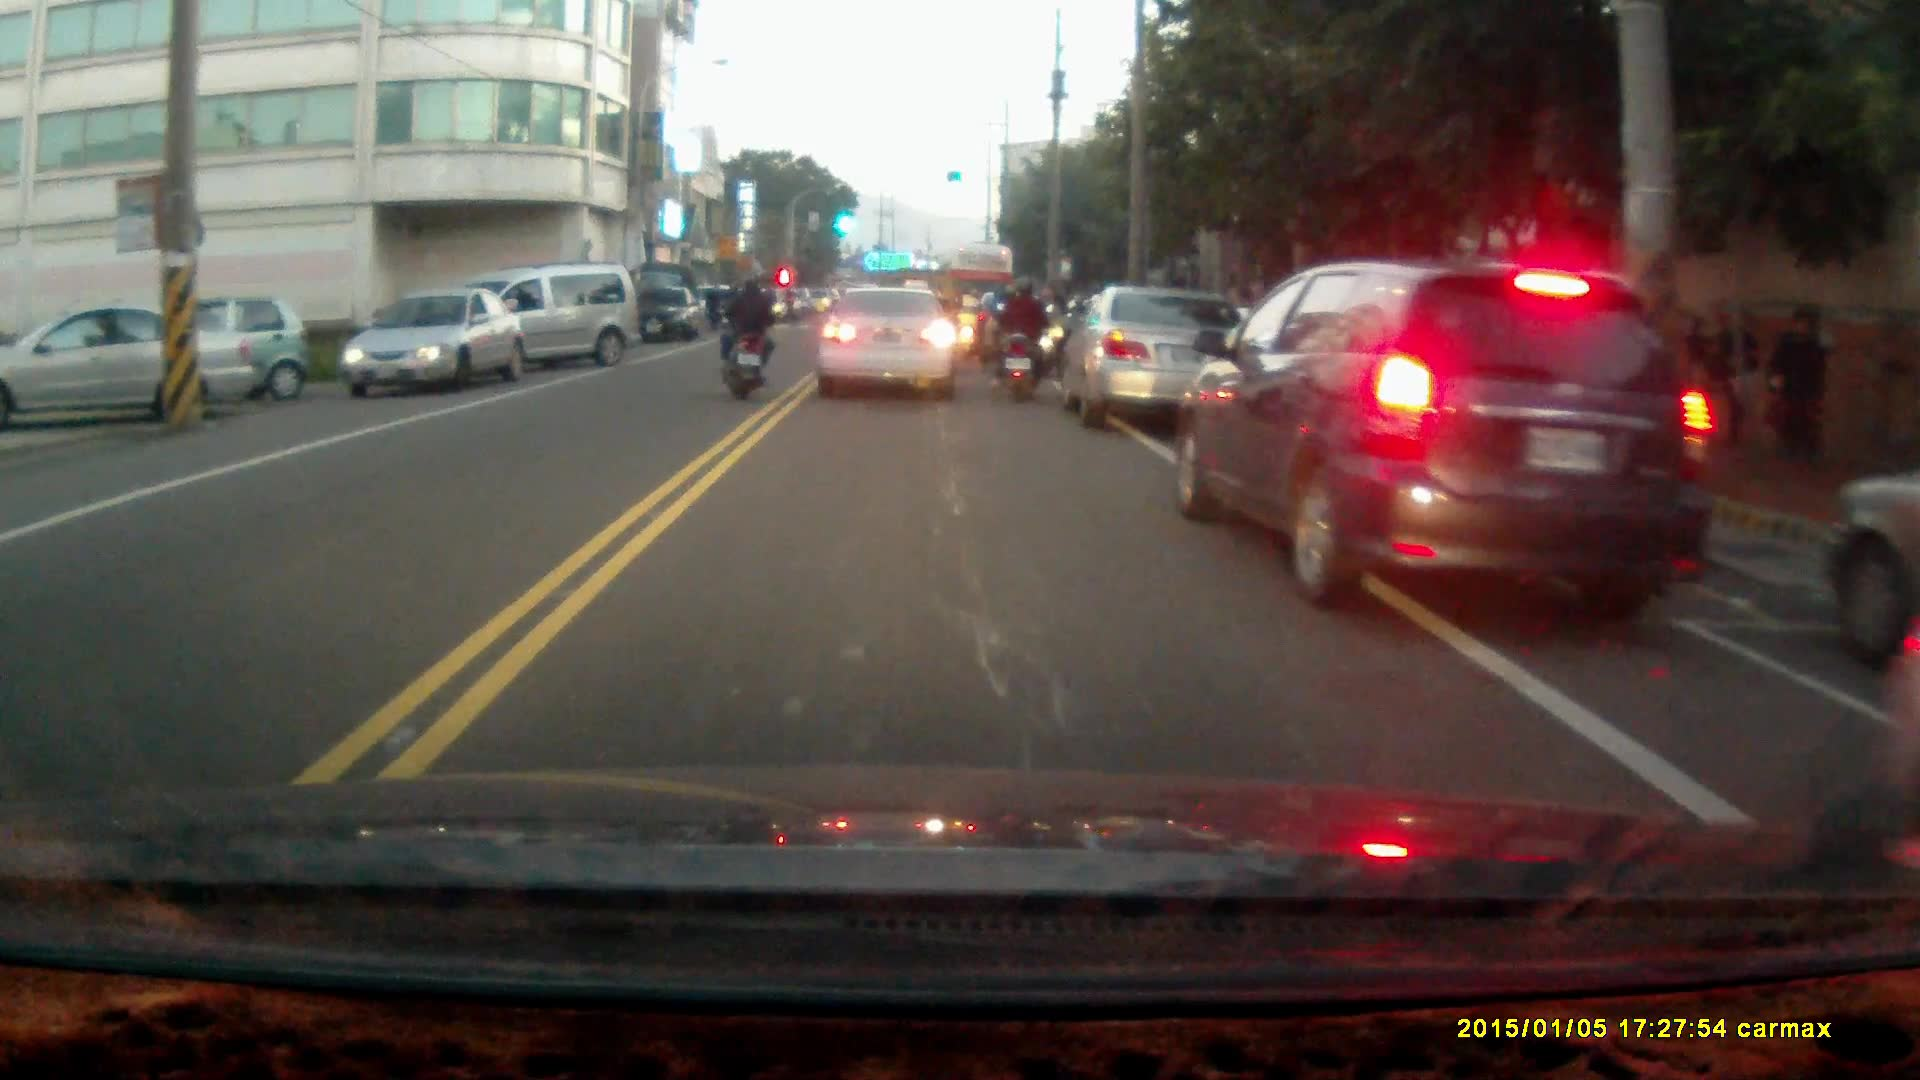pedestrian: (1765, 305, 1821, 470), (1712, 305, 1765, 461)
rider: (990, 270, 1054, 403), (715, 274, 776, 398)
vehicle: (1174, 258, 1735, 613), (1, 305, 266, 426), (1055, 282, 1253, 424), (78, 295, 304, 407), (432, 263, 640, 380), (342, 288, 526, 397), (811, 286, 963, 400), (631, 287, 696, 346)
